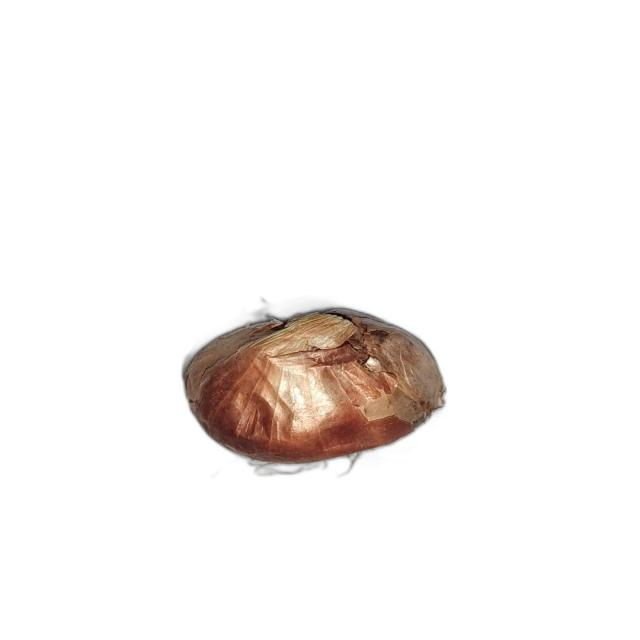onion: (183, 307, 448, 474)
